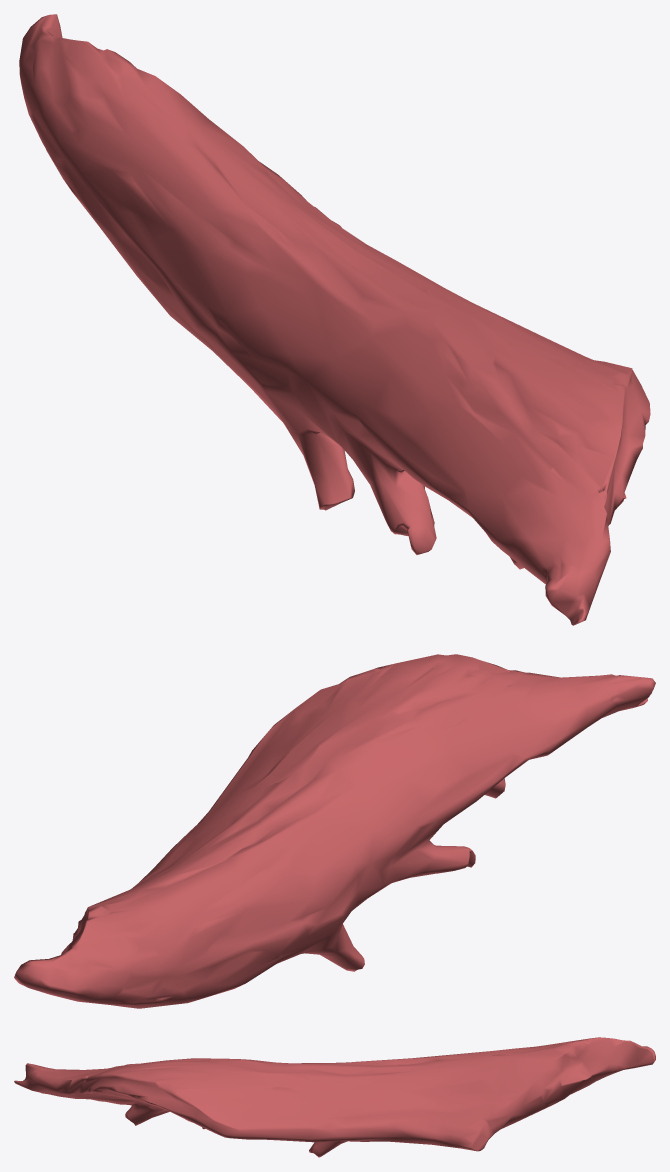
The picture shows the model from 3 angles, top to bottom: view 1: azimuth 30°, elevation 25°; view 2: azimuth 150°, elevation 25°; view 3: azimuth 270°, elevation 25°; orthographic projection. The views are drawn at different scales.
Visible parts, largest first — view 1: 左侧腰方肌; view 2: 左侧腰方肌; view 3: 左侧腰方肌.
Boxes of the visible parts, x1,y1,x2,y2 form: 左侧腰方肌: [19, 14, 650, 625]; 左侧腰方肌: [14, 654, 655, 1008]; 左侧腰方肌: [14, 1037, 655, 1157].
Size of the model in its own units: 0.0758 by 0.0666 by 0.3041.
